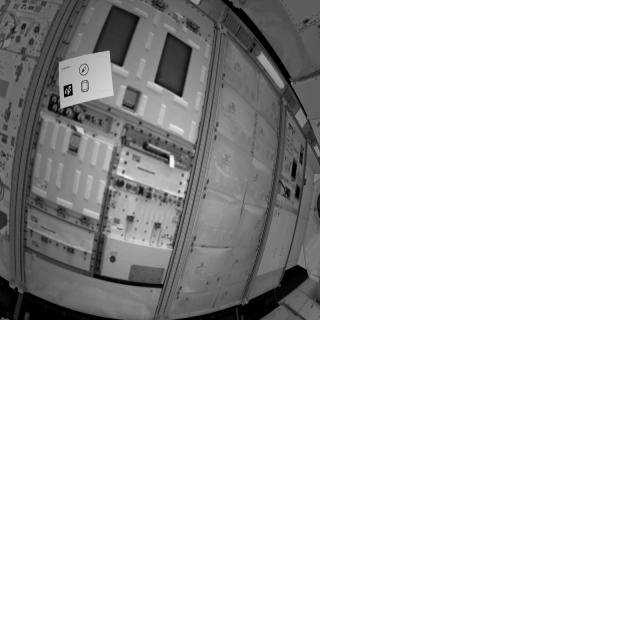compass: (80, 64, 91, 77)
emerald: (80, 80, 91, 95)
